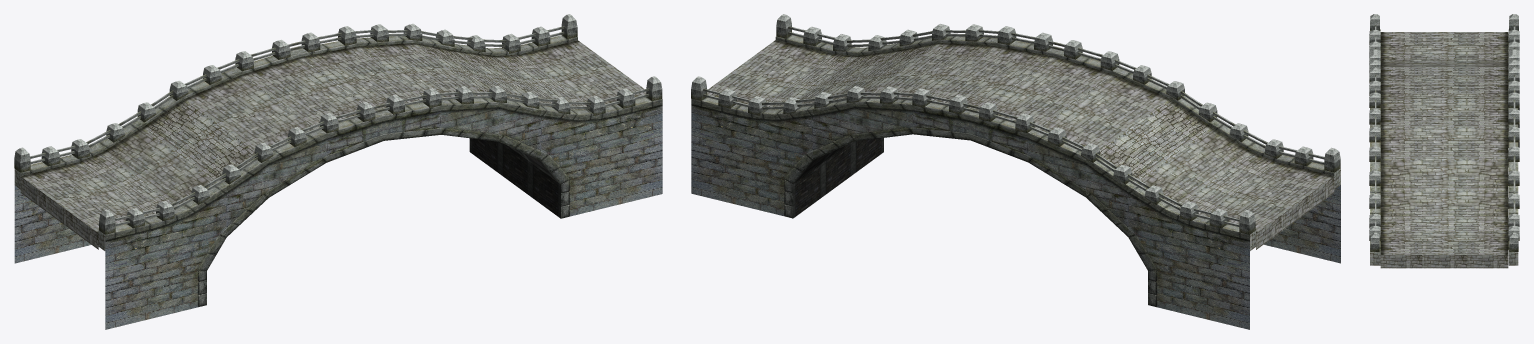
Rendered from b1-024-10m-bridge.fbx.
3 views of the same model, side by side, from view 1: azimuth 30°, elevation 25°; view 2: azimuth 150°, elevation 25°; view 3: azimuth 270°, elevation 25° (orthographic). The views are drawn at different scales.
Parts seen in each view (by area): view 1: b1-024-10m-bridge-2, b1-024-10m-bridge-1; view 2: b1-024-10m-bridge-2, b1-024-10m-bridge-1; view 3: b1-024-10m-bridge-2.
Boxes of the visible parts, x1,y1,x2,y2 form: b1-024-10m-bridge-2: [14, 14, 662, 250]; b1-024-10m-bridge-1: [14, 37, 662, 329]; b1-024-10m-bridge-2: [691, 14, 1340, 250]; b1-024-10m-bridge-1: [691, 37, 1340, 329]; b1-024-10m-bridge-2: [1369, 14, 1519, 268].
Bounding box in the file's own units: 28.93 × 7.94 × 8.24.
